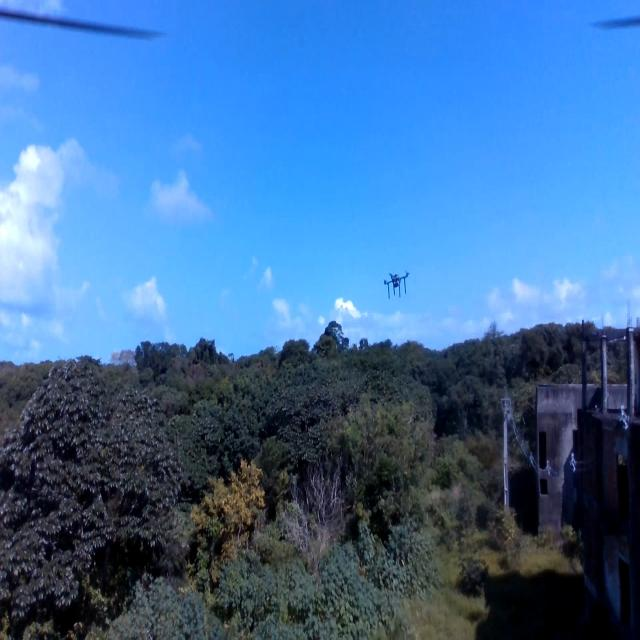-uav-: (382, 258, 413, 314)
